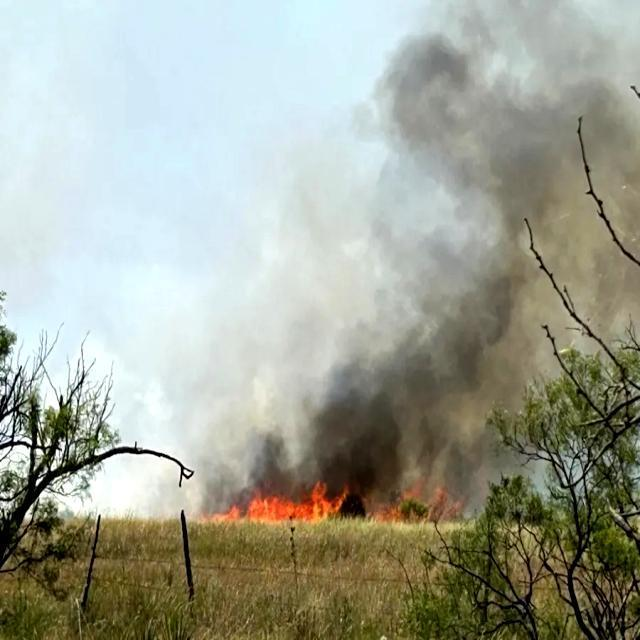Fire: (219, 482, 362, 538)
Smoke: (291, 15, 640, 491)
